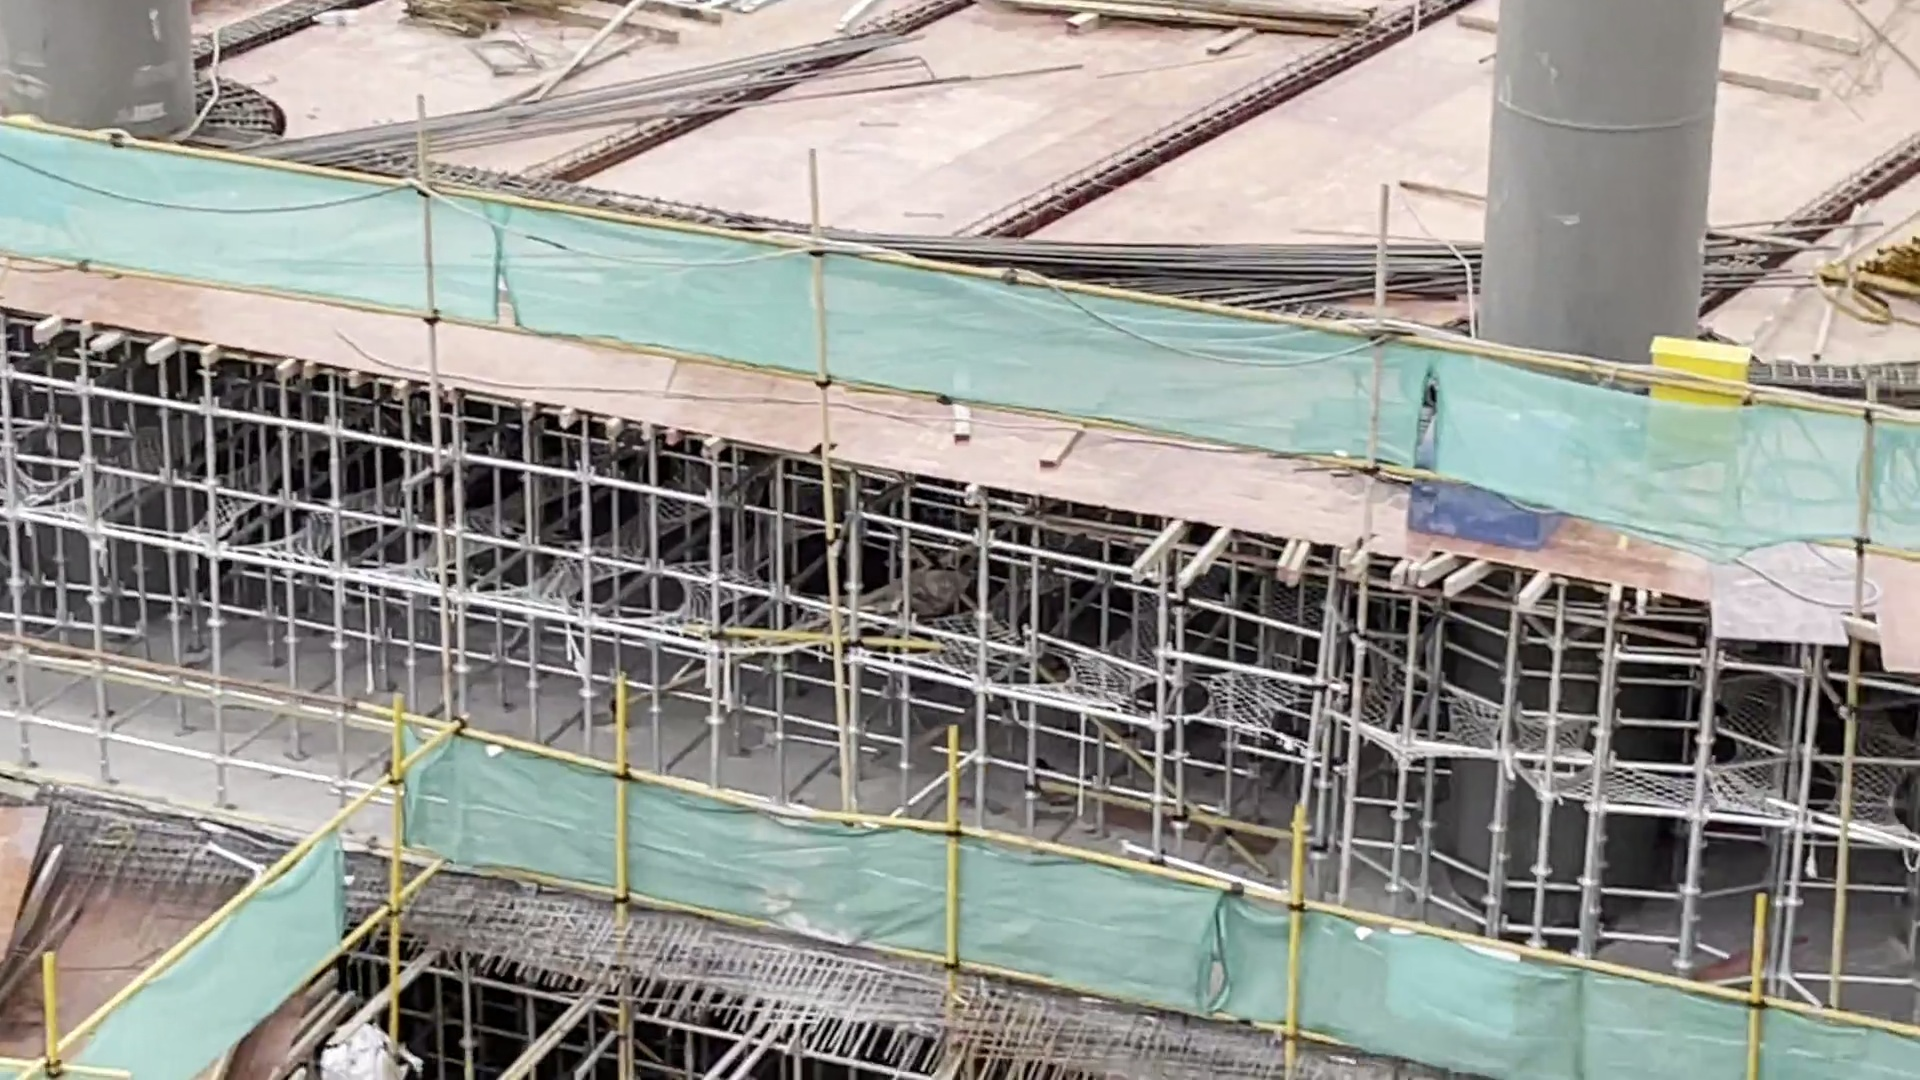ebox: (1648, 339, 1754, 472)
rebar: (829, 218, 1845, 313)
